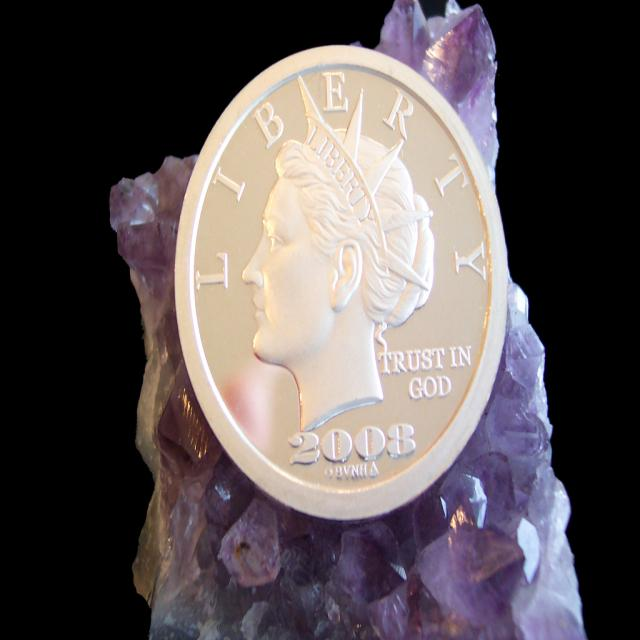Coin: (174, 40, 511, 525)
